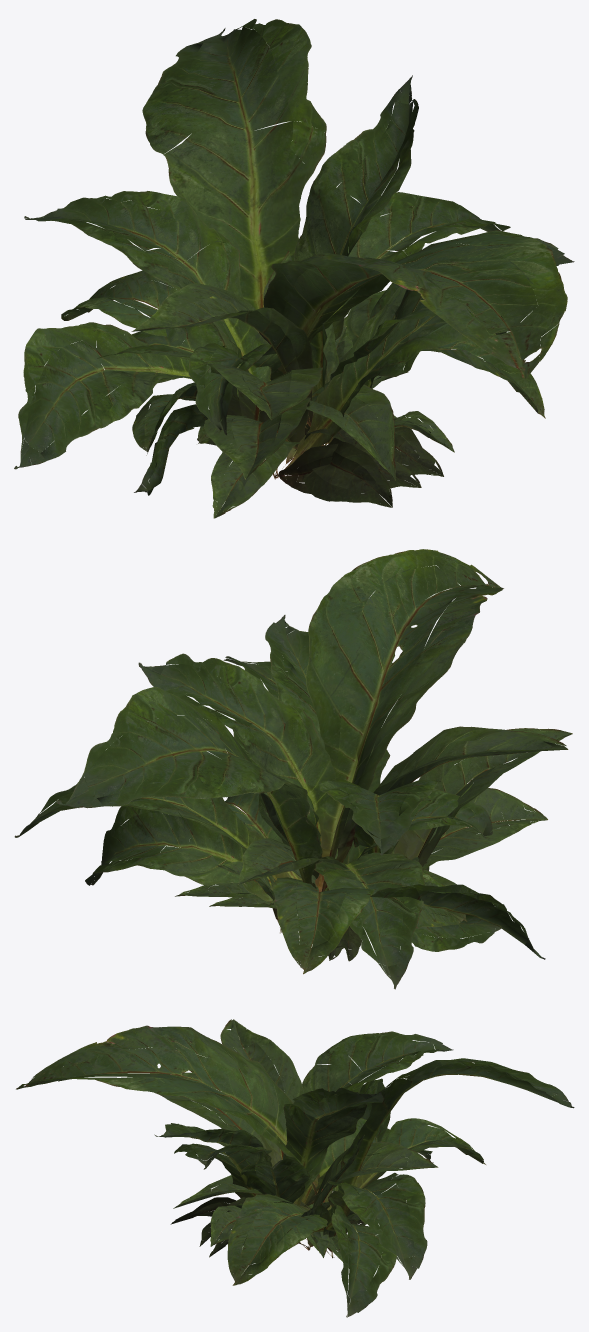
The model's file is anthurium_botany_01_LOD1.fbx.
3 renders of one model, top to bottom at view 1: azimuth 30°, elevation 25°; view 2: azimuth 150°, elevation 25°; view 3: azimuth 270°, elevation 25°, orthographic. The views are drawn at different scales.
Visible parts, largest first — view 1: anthurium_botany_01_a.002, anthurium_botany_01_b.002, anthurium_botany_01_c.002, anthurium_botany_04_d.002; view 2: anthurium_botany_01_a.002, anthurium_botany_01_b.002, anthurium_botany_01_c.002, anthurium_botany_04_d.002, anthurium_botany_06_f.002, anthurium_botany_05_e.002; view 3: anthurium_botany_01_a.002, anthurium_botany_01_b.002, anthurium_botany_01_c.002, anthurium_botany_04_d.002, anthurium_botany_05_e.002.
Part boxes in pixels (bbox=[...]): anthurium_botany_01_a.002: bbox=[14, 19, 567, 480]; anthurium_botany_01_b.002: bbox=[96, 75, 574, 507]; anthurium_botany_01_c.002: bbox=[24, 191, 571, 493]; anthurium_botany_04_d.002: bbox=[211, 251, 443, 518]; anthurium_botany_01_a.002: bbox=[14, 549, 545, 974]; anthurium_botany_01_b.002: bbox=[85, 615, 568, 989]; anthurium_botany_01_c.002: bbox=[223, 656, 572, 884]; anthurium_botany_04_d.002: bbox=[175, 719, 456, 960]; anthurium_botany_06_f.002: bbox=[209, 858, 412, 961]; anthurium_botany_05_e.002: bbox=[216, 820, 327, 933]; anthurium_botany_01_a.002: bbox=[16, 1025, 574, 1285]; anthurium_botany_01_b.002: bbox=[154, 1019, 433, 1317]; anthurium_botany_01_c.002: bbox=[154, 1031, 453, 1257]; anthurium_botany_04_d.002: bbox=[209, 1134, 364, 1267]; anthurium_botany_05_e.002: bbox=[226, 1203, 360, 1258].
Size of the model in its own units: 0.8966 by 0.501 by 1.14.
1 material, 1 textured.
